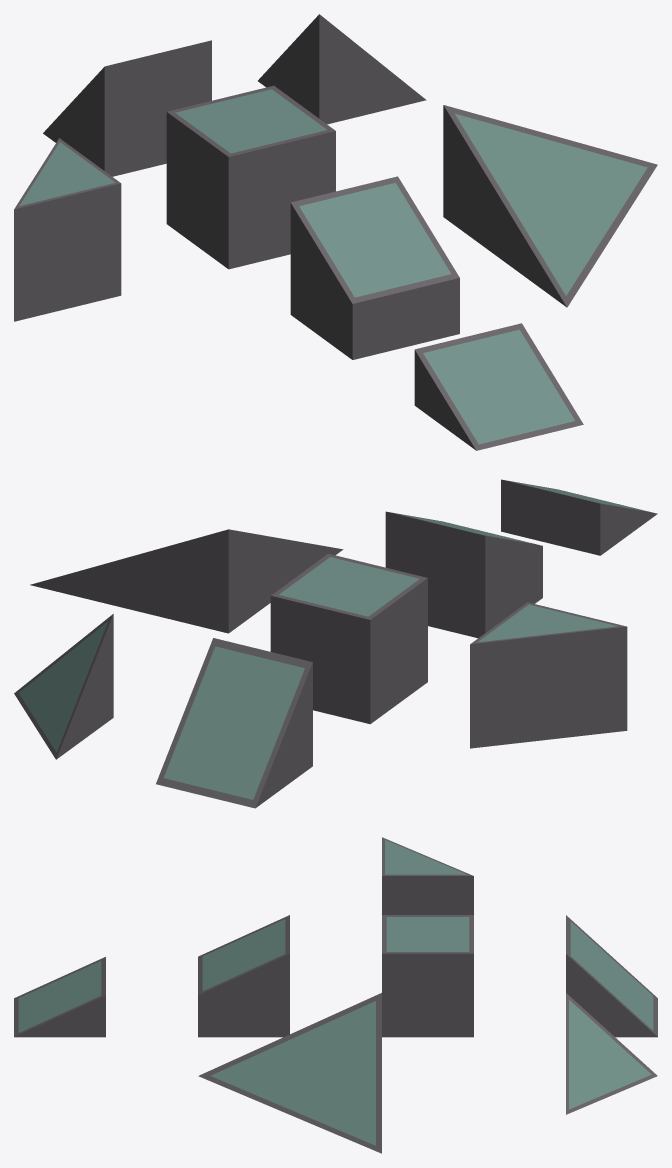
File: test_tileset_2_5D.glb
The picture shows the model from 3 angles, top to bottom: view 1: azimuth 30°, elevation 25°; view 2: azimuth 150°, elevation 25°; view 3: azimuth 270°, elevation 25°; orthographic projection. The views are drawn at different scales.
Visible parts, largest first — view 1: Cube.005, Cube.003, Cube, Cube.006, Cube.002, Cube.001, Cube.004; view 2: Cube, Cube.006, Cube.001, Cube.005, Cube.003, Cube.004, Cube.002; view 3: Cube.005, Cube, Cube.003, Cube.001, Cube.004, Cube.002, Cube.006.
Part boxes in pixels (<box>): Cube.005: <box>443,105,657,307</box>; Cube.003: <box>290,176,459,359</box>; Cube: <box>166,85,335,269</box>; Cube.006: <box>14,138,121,321</box>; Cube.002: <box>414,323,583,450</box>; Cube.001: <box>43,40,211,176</box>; Cube.004: <box>258,14,426,124</box>; Cube: <box>270,553,427,724</box>; Cube.006: <box>470,602,627,748</box>; Cube.001: <box>156,638,312,808</box>; Cube.005: <box>30,529,343,633</box>; Cube.003: <box>385,511,542,638</box>; Cube.004: <box>14,614,113,759</box>; Cube.002: <box>501,479,657,555</box>; Cube.005: <box>198,993,381,1153</box>; Cube: <box>382,915,473,1037</box>; Cube.003: <box>198,915,289,1037</box>; Cube.001: <box>566,915,657,1037</box>; Cube.004: <box>566,993,657,1114</box>; Cube.002: <box>14,957,105,1037</box>; Cube.006: <box>382,837,473,914</box>.
Bounding box in the file's own units: 12 × 2 × 14.
